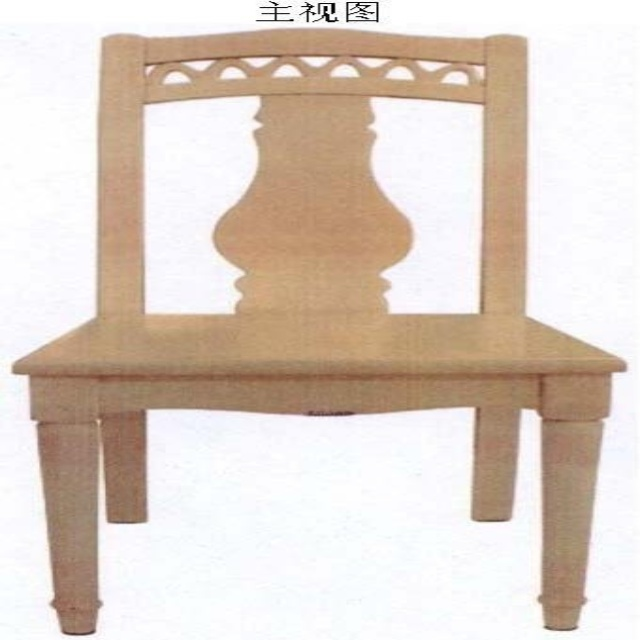obstacle: (13, 29, 623, 634)
